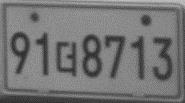1: (130, 34, 146, 80), (35, 31, 50, 77)
3: (150, 36, 174, 81)
7: (103, 33, 127, 79)
8: (82, 34, 102, 78)
9: (9, 31, 31, 75)
더: (55, 39, 79, 79)
